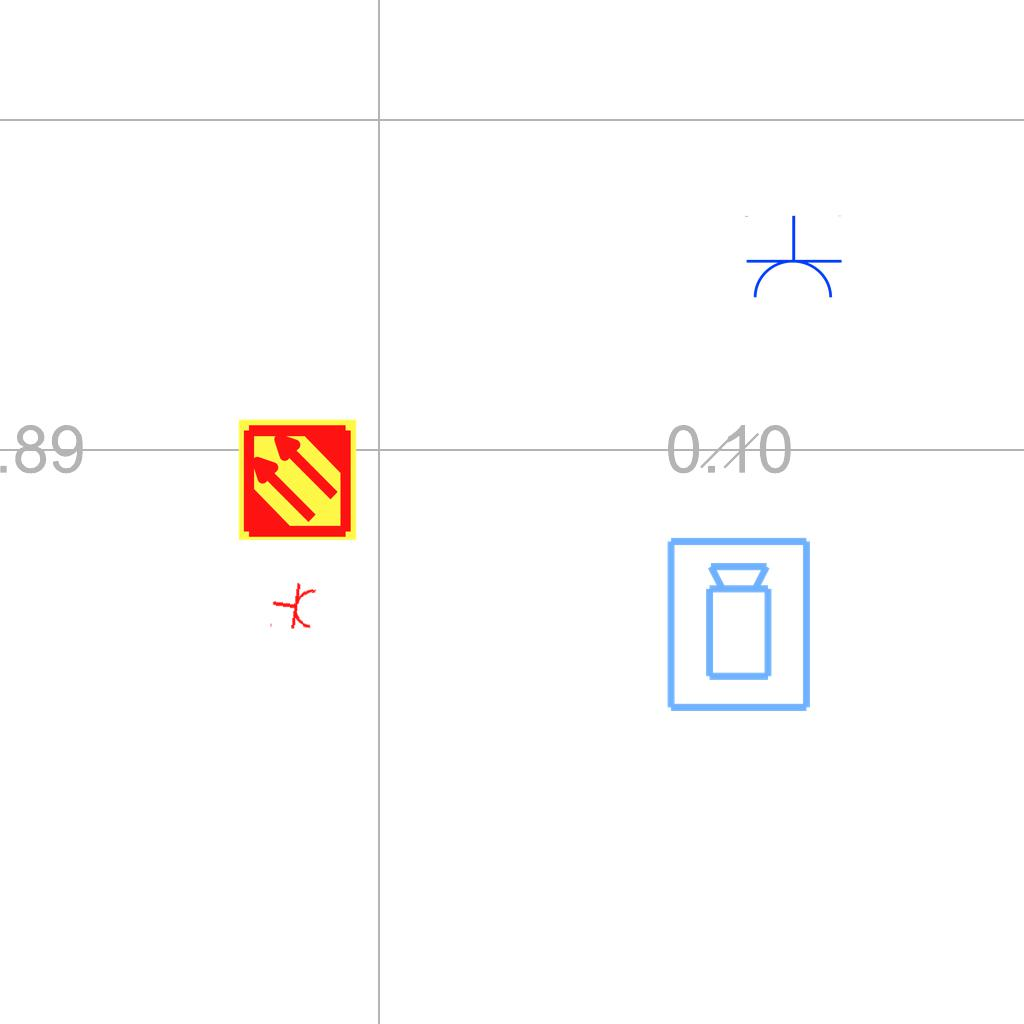ASR_Ansaugrauchmelder: (235, 417, 360, 542)
KFO_Kamera_mit_Festobjektiv: (663, 534, 817, 716)
Schukosteckdose_einfach: (743, 215, 843, 302), (268, 579, 319, 635)
